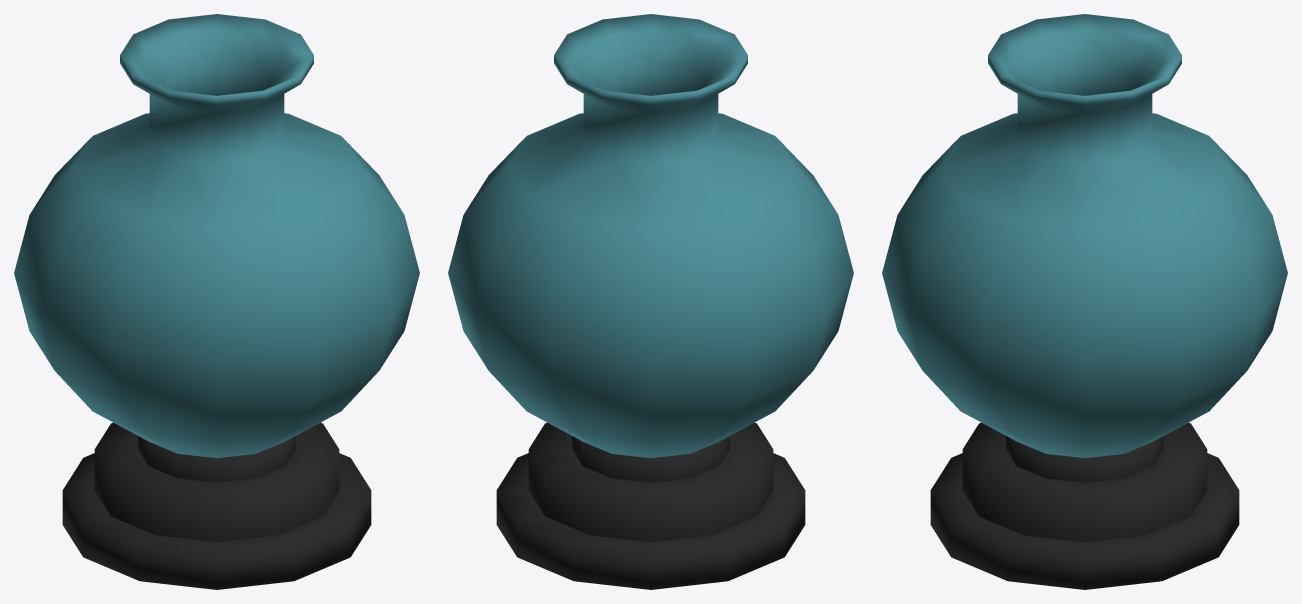
The model's file is DI_056_small_bottle.glb.
3 views of the same model, side by side, from view 1: azimuth 30°, elevation 25°; view 2: azimuth 150°, elevation 25°; view 3: azimuth 270°, elevation 25° (orthographic).
Parts seen in each view (by area): view 1: Bottle, Base; view 2: Bottle, Base; view 3: Bottle, Base.
Part boxes in pixels (x1=…): Bottle: x1=14, y1=14, x2=419, y2=458; Base: x1=62, y1=422, x2=371, y2=589; Bottle: x1=448, y1=14, x2=853, y2=458; Base: x1=496, y1=422, x2=805, y2=589; Bottle: x1=882, y1=14, x2=1287, y2=458; Base: x1=930, y1=422, x2=1239, y2=589.
Bounding box in the file's own units: 0.5954 × 0.7601 × 0.5954.
